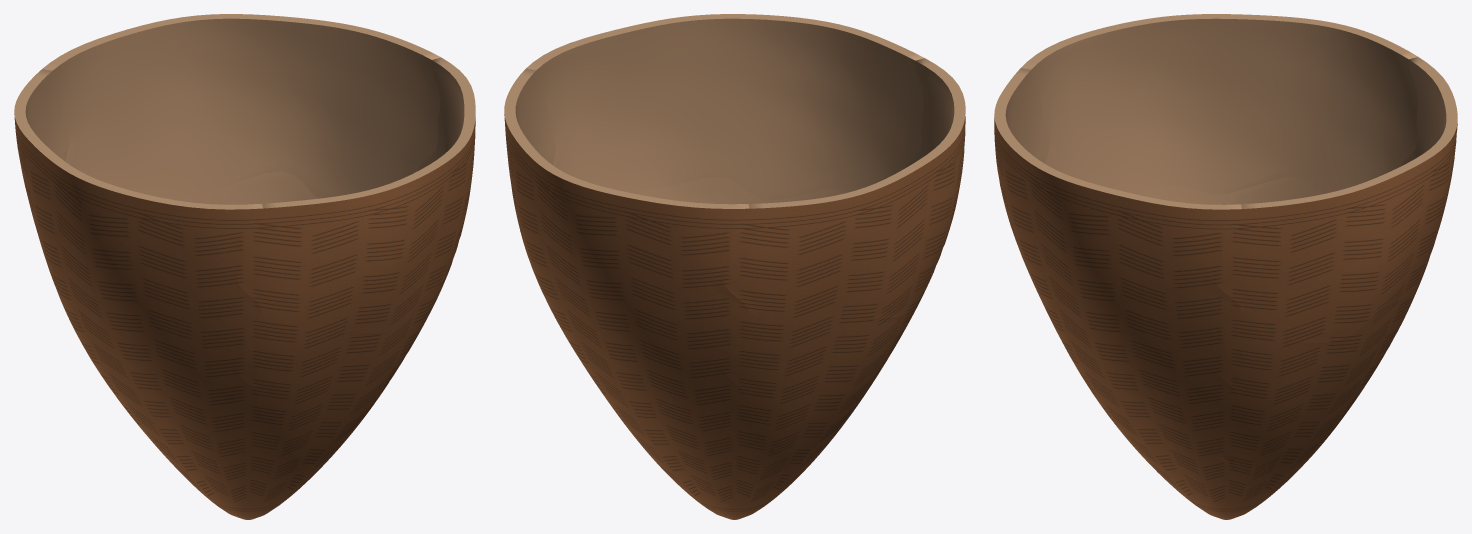
The model's file is pottery.glb.
3 views of the same model, side by side, from view 1: azimuth 30°, elevation 25°; view 2: azimuth 150°, elevation 25°; view 3: azimuth 270°, elevation 25° (orthographic).
Visible parts, largest first — view 1: Pottery_Piece_06, Pottery_Piece_05, Pottery_Piece_04, Pottery_Piece_01, Pottery_Piece_02, Pottery_Base, Pottery_Piece_03; view 2: Pottery_Piece_04, Pottery_Piece_05, Pottery_Piece_06, Pottery_Piece_03, Pottery_Piece_02, Pottery_Base, Pottery_Piece_01; view 3: Pottery_Piece_05, Pottery_Piece_04, Pottery_Piece_06, Pottery_Piece_03, Pottery_Piece_01, Pottery_Base, Pottery_Piece_02.
Part boxes in pixels (box(x1,y1,x2,y2)): Pottery_Piece_06: box(42, 14, 440, 198); Pottery_Piece_05: box(14, 69, 262, 355); Pottery_Piece_04: box(237, 57, 475, 351); Pottery_Piece_01: box(238, 274, 447, 462); Pottery_Piece_02: box(51, 276, 258, 464); Pottery_Base: box(151, 428, 354, 519); Pottery_Piece_03: box(167, 171, 318, 204); Pottery_Piece_04: box(526, 14, 924, 200); Pottery_Piece_05: box(724, 58, 965, 354); Pottery_Piece_06: box(504, 68, 749, 352); Pottery_Piece_03: box(537, 279, 744, 468); Pottery_Piece_02: box(725, 281, 929, 468); Pottery_Base: box(634, 423, 844, 519); Pottery_Piece_01: box(637, 176, 845, 204); Pottery_Piece_05: box(1021, 14, 1418, 194); Pottery_Piece_04: box(994, 68, 1241, 351); Pottery_Piece_06: box(1216, 57, 1457, 345); Pottery_Piece_03: box(1217, 279, 1421, 467); Pottery_Piece_01: box(1036, 289, 1237, 458); Pottery_Base: box(1117, 426, 1326, 519); Pottery_Piece_02: box(1115, 176, 1322, 204).
Bounding box in the file's own units: 1.55 × 1.5 × 1.55.
Materials: 3 (1 with a texture image).
